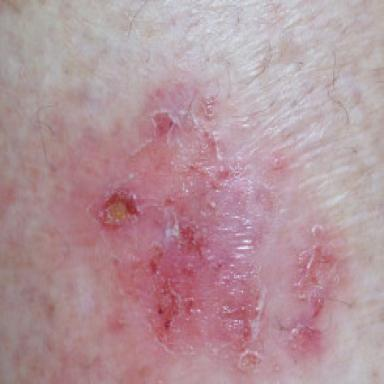eczema: (91, 84, 271, 370), (288, 224, 338, 361)
